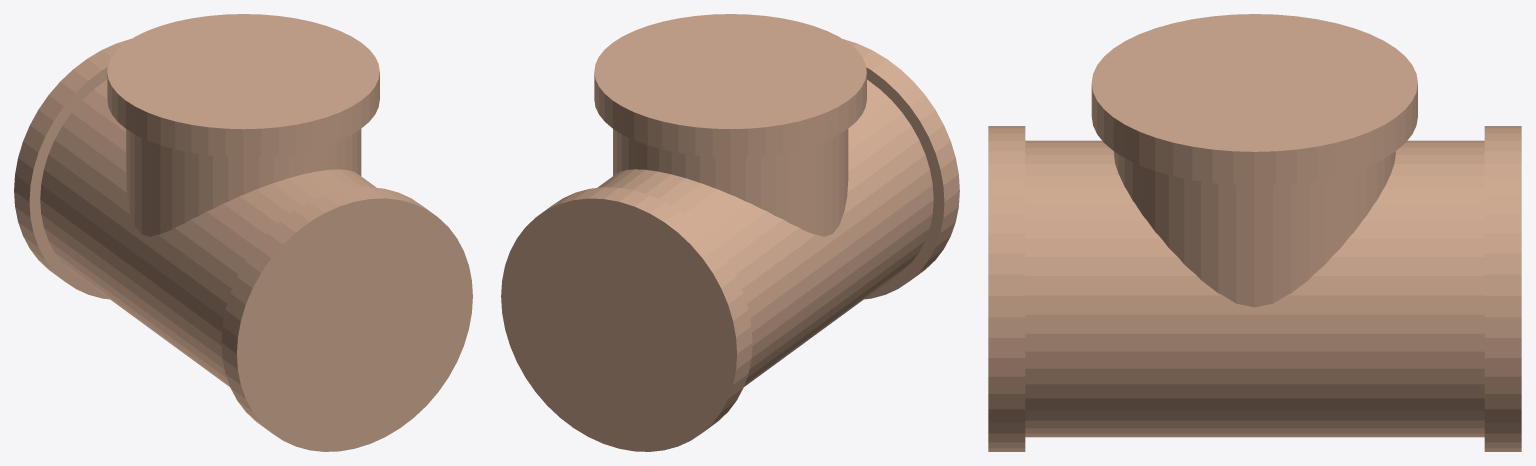
The picture shows the model from 3 angles, left to right: view 1: azimuth 30°, elevation 25°; view 2: azimuth 150°, elevation 25°; view 3: azimuth 270°, elevation 25°; orthographic projection. The views are drawn at different scales.
Parts seen in each view (by area): view 1: Cylinder; view 2: Cylinder; view 3: Cylinder.
Boxes of the visible parts, box(x1,y1,x2,y2) form: Cylinder: box(14, 14, 472, 451); Cylinder: box(501, 14, 959, 451); Cylinder: box(988, 14, 1521, 451).
Bounding box in the file's own units: 4.4 × 5.26 × 7.19.
